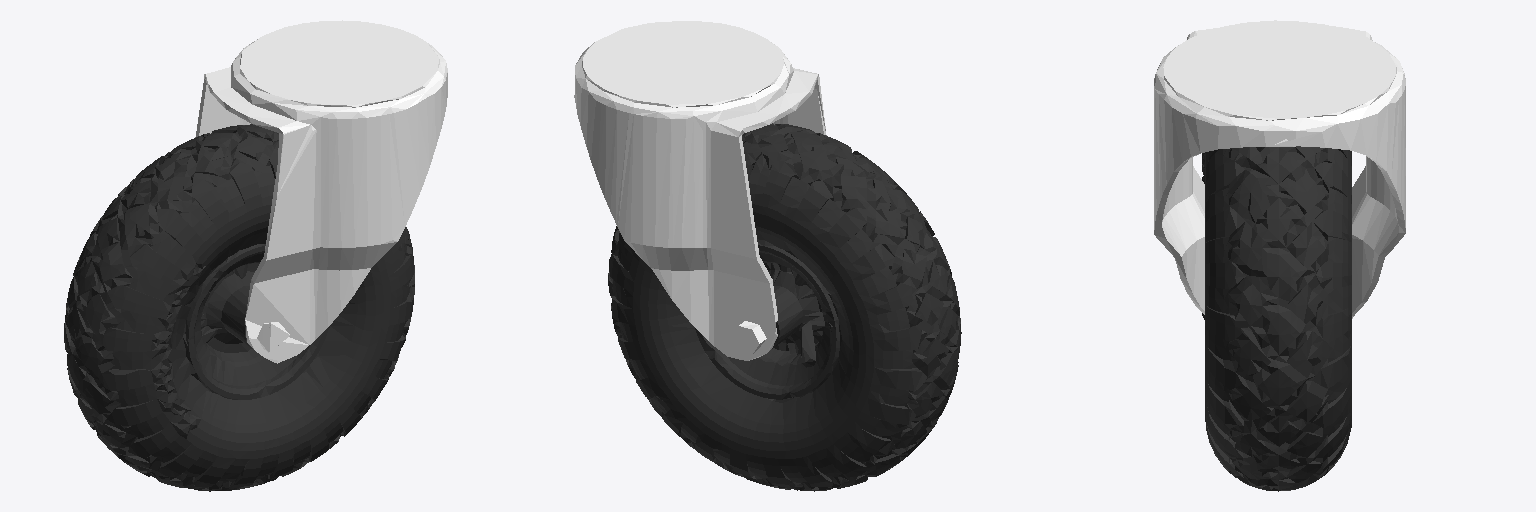
robot.urdf — caster_cart:
<?xml version="1.0" ?>
<!-- =================================================================================== -->
<!-- |    This document was autogenerated by xacro from caster_cart.urdf.xacro         | -->
<!-- |    EDITING THIS FILE BY HAND IS NOT RECOMMENDED                                 | -->
<!-- =================================================================================== -->
<!--
Description of the caster module for the Innok Heros mobile platform.
Software License Agreement (BSD)
\authors [author]
\maintainer [author] <[email redacted]>
\copyright Copyright (c) 2015, Innok Robotics GmbH, All rights reserved
Redistribution and use in source and binary forms, with or without modification, are permitted provided that the following conditions are met:
1. Redistributions of source code must retain the above copyright notice, this list of conditions and the following disclaimer.
2. Redistributions in binary form must reproduce the above copyright notice, this list of conditions and the following disclaimer in the documentation and/or other materials provided with the distribution.
THIS SOFTWARE IS PROVIDED BY THE COPYRIGHT [author] "AS IS" AND ANY EXPRESS OR IMPLIED WARRANTIES, INCLUDING, BUT NOT LIMITED TO, THE IMPLIED WARRANTIES OF MERCHANTABILITY AND FITNESS FOR A PARTICULAR PURPOSE ARE DISCLAIMED. IN NO EVENT SHALL THE COPYRIGHT [author] LIABLE FOR ANY DIRECT, INDIRECT, INCIDENTAL, SPECIAL, EXEMPLARY, OR CONSEQUENTIAL DAMAGES (INCLUDING, BUT NOT LIMITED TO, PROCUREMENT OF SUBSTITUTE GOODS OR SERVICES; LOSS OF USE, DATA, OR PROFITS; OR BUSINESS INTERRUPTION) HOWEVER CAUSED AND ON ANY THEORY OF LIABILITY, WHETHER IN CONTRACT, STRICT LIABILITY, OR TORT (INCLUDING NEGLIGENCE OR OTHERWISE) ARISING IN ANY WAY OUT OF THE USE OF THIS SOFTWARE, EVEN IF ADVISED OF THE POSSIBILITY OF SUCH DAMAGE.
-->
<robot name="caster_cart" xmlns:xacro="http://ros.org/wiki/xacro">
  <link name="caster_top">
    <inertial>
      <origin rpy="0 0 0" xyz="-0.0092 0 -0.0248"/>
      <mass value="0.1"/>
      <inertia ixx="8.2e-4" ixy="0" ixz="0" iyy="8.2e-4" iyz="0" izz="5.1e-4"/>
    </inertial>
    <visual>
      <origin rpy="0 0 0" xyz="0 0 0"/>
      <geometry>
        <mesh filename="model://caster_cart/meshes/caster_top.STL" scale="0.4 0.4 0.4"/>
      </geometry>
      <material name="white">
        <color rgba="1 1 1 1"/>
      </material>
    </visual>
    <collision>
      <origin rpy="0 0 0" xyz="0 0 -0.02"/>
      <geometry>
        <cylinder length="0.036" radius="0.028"/>
      </geometry>
    </collision>
  </link>
  <link name="caster_wheel">
    <inertial>
      <origin rpy="0 0 0" xyz="0 0 0"/>
      <mass value="0.05"/>
      <inertia ixx="1.7e-4" ixy="0" ixz="0" iyy="3e-4" iyz="0" izz="1.7e-4"/>
    </inertial>
    <visual>
      <origin rpy="0 0 0" xyz="0 0 0"/>
      <geometry>
        <mesh filename="model://caster_cart/meshes/caster_wheel.STL" scale="0.4 0.4 0.4"/>
      </geometry>
      <material name="">
        <color rgba="0.25 0.25 0.25 1"/>
      </material>
    </visual>
    <collision>
      <origin rpy="-1.57 0 0" xyz="0 0 0 "/>
      <geometry>
        <cylinder length="0.034" radius="0.05"/>
      </geometry>
    </collision>
  </link>
  <gazebo reference="caster_wheel">
    <collision>
      <max_contacts>1000</max_contacts>
      <surface>
        <friction>
          <torsional>
            <coefficient>0.1</coefficient>
            <patch_radius>0.001</patch_radius>
            <use_patch_radius>1</use_patch_radius>
            <ode>
              <slip>0.1</slip>
            </ode>
          </torsional>
          <ode>
            <mu>10</mu>
            <mu2>10</mu2>
          </ode>
        </friction>
        <contact>
          <ode>
            <min_depth>0.005</min_depth>
          </ode>
        </contact>
      </surface>
    </collision>
    <material>Gazebo/Grey</material>
  </gazebo>
  <joint name="caster_wheel_joint" type="continuous">
    <origin rpy="0 0 0.003" xyz="-0.032 -0.0056 -0.068"/>
    <parent link="caster_top"/>
    <child link="caster_wheel"/>
    <axis xyz="0 1 0"/>
    <dynamics damping="0.02"/>
  </joint>
</robot>

--- Render facts (derived) ---
The picture shows the robot from 3 angles, left to right: view 1: azimuth 30°, elevation 25°; view 2: azimuth 150°, elevation 25°; view 3: azimuth 270°, elevation 25°; orthographic projection.
Robot: caster_cart — 2 links, 1 joints (1 continuous); root link caster_top; default pose: every joint at zero.
Visible links, largest first — view 1: caster_wheel, caster_top; view 2: caster_wheel, caster_top; view 3: caster_wheel, caster_top.
Boxes of the visible links, x1,y1,x2,y2 form: caster_wheel: (64,124,414,491); caster_top: (195,20,447,363); caster_wheel: (608,123,961,491); caster_top: (574,21,826,360); caster_wheel: (1202,146,1351,491); caster_top: (1154,20,1405,318).
Bounding box of the posed robot: 0.1135 × 0.0584 × 0.117 m (x, y, z).
Meshes: 2 distinct files referenced, 2 mesh visuals loaded (2 binary STL).